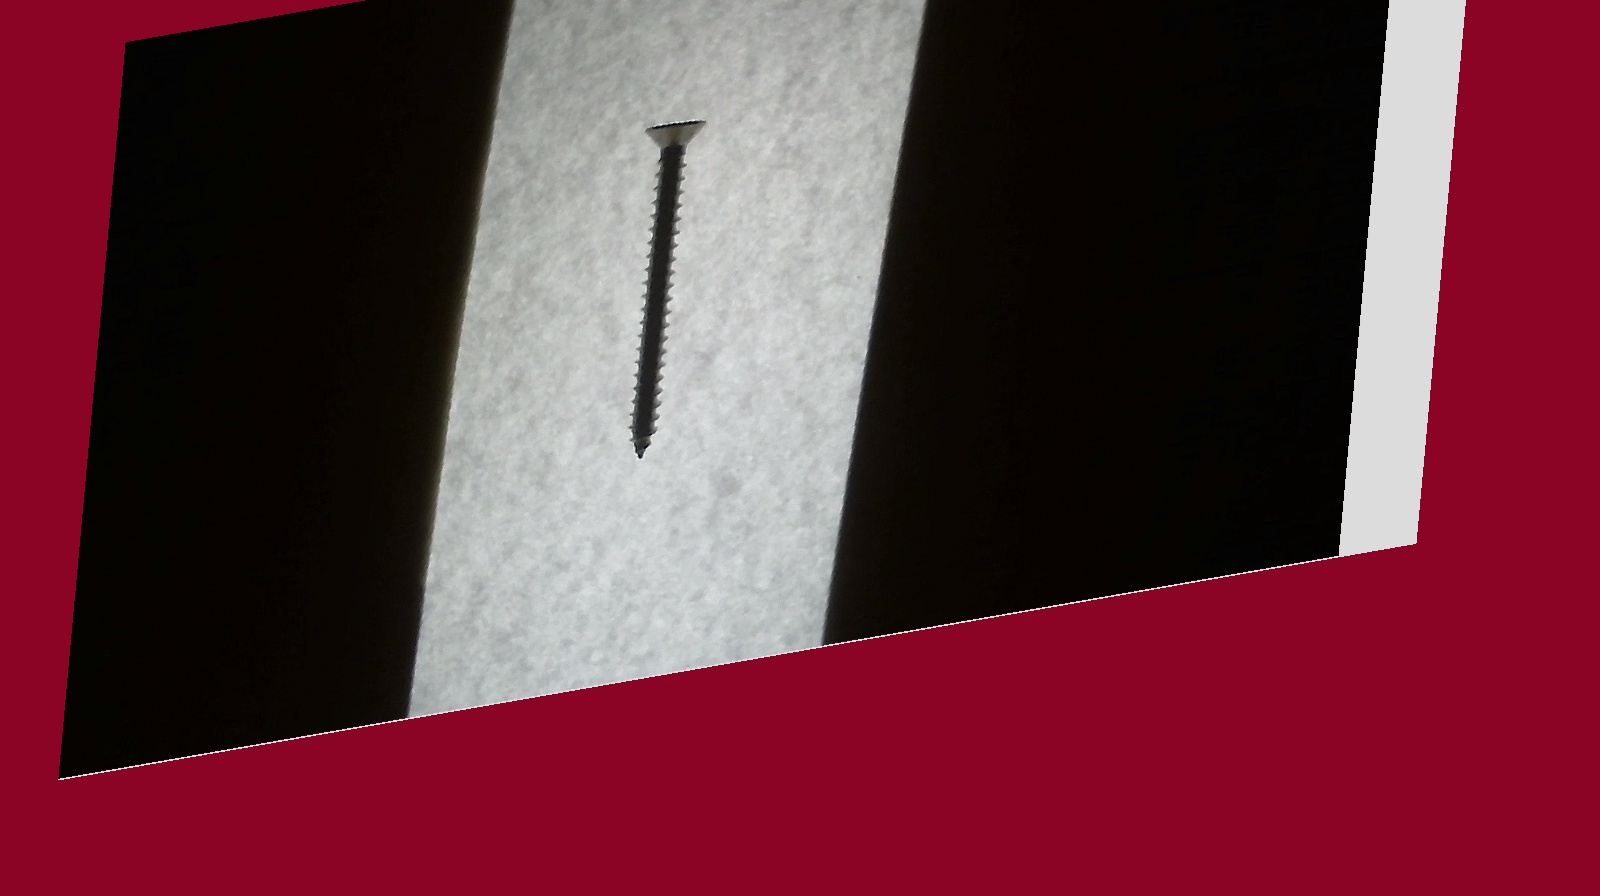S002: (588, 103, 738, 480)
